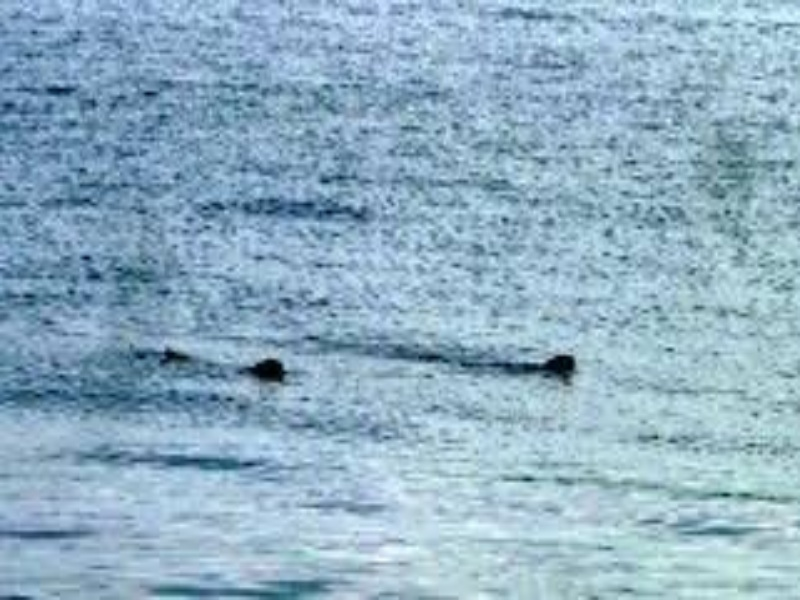minkish: (160, 342, 288, 379), (528, 354, 579, 378)
